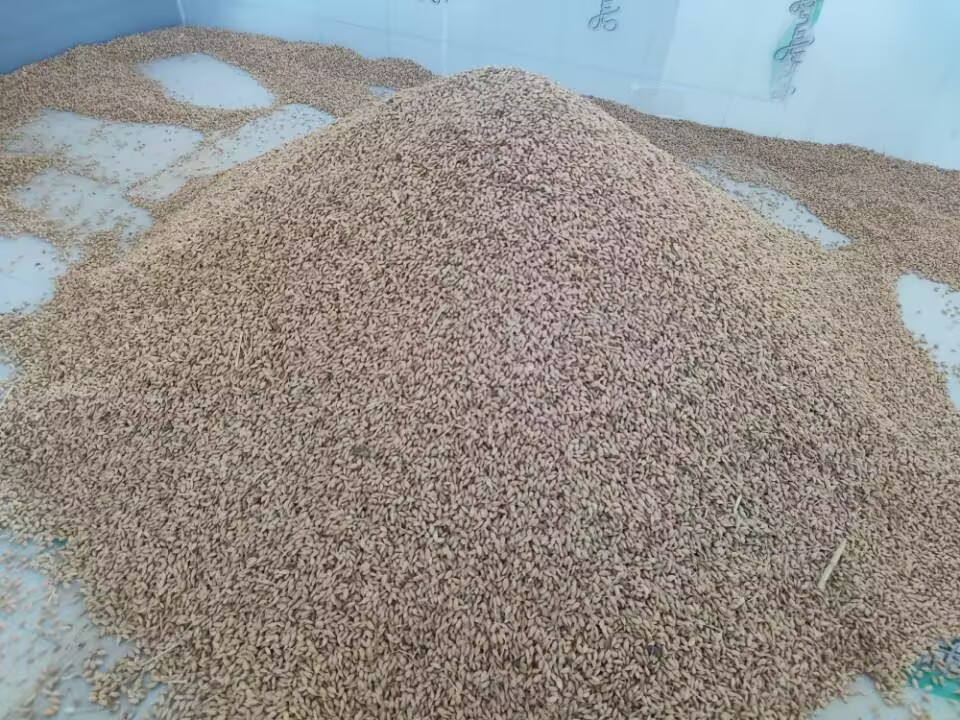Grain: (77, 51, 899, 694)
